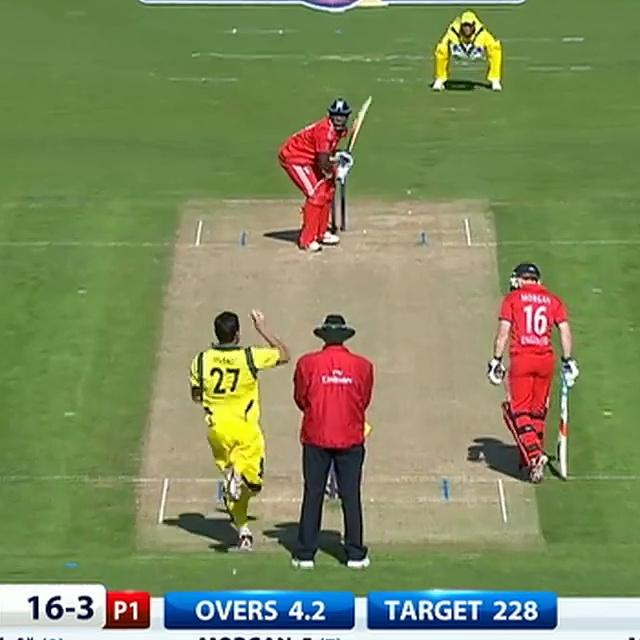umpire: (278, 305, 388, 571)
